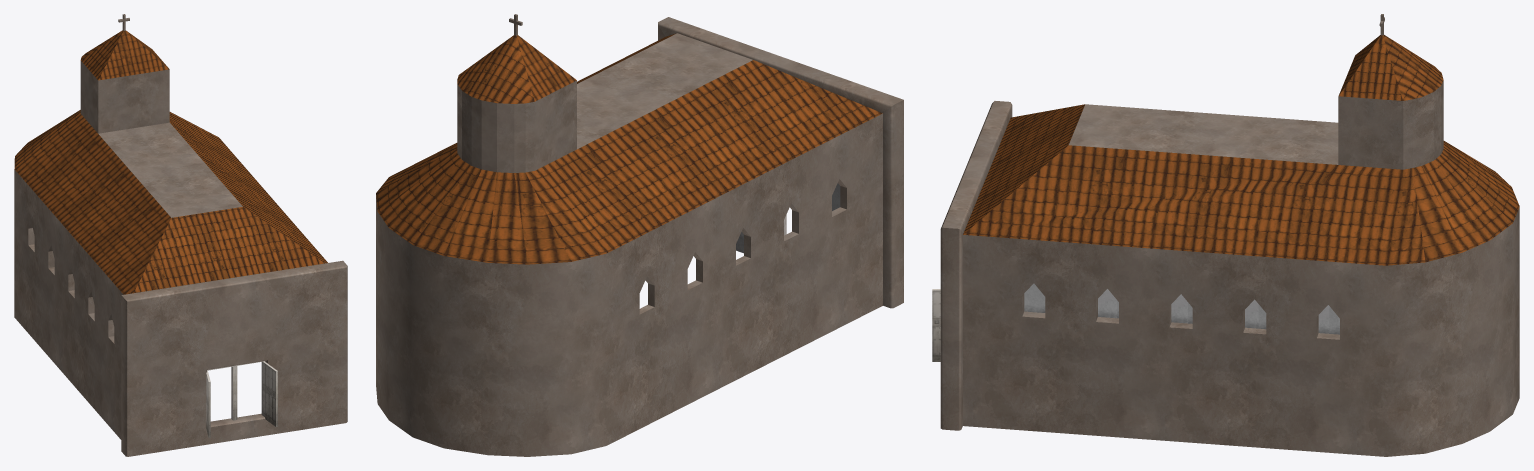
The model's file is Iglesia.fbx.
The picture shows the model from 3 angles, left to right: view 1: azimuth 30°, elevation 25°; view 2: azimuth 150°, elevation 25°; view 3: azimuth 270°, elevation 25°; orthographic projection. The views are drawn at different scales.
Visible parts, largest first — view 1: Iglesia; view 2: Iglesia; view 3: Iglesia.
Boxes of the visible parts, box(x1,y1,x2,y2) form: Iglesia: box(14, 14, 347, 456); Iglesia: box(376, 14, 903, 456); Iglesia: box(932, 14, 1519, 456).
Bounding box in the file's own units: 15.57 × 17.96 × 25.06.
